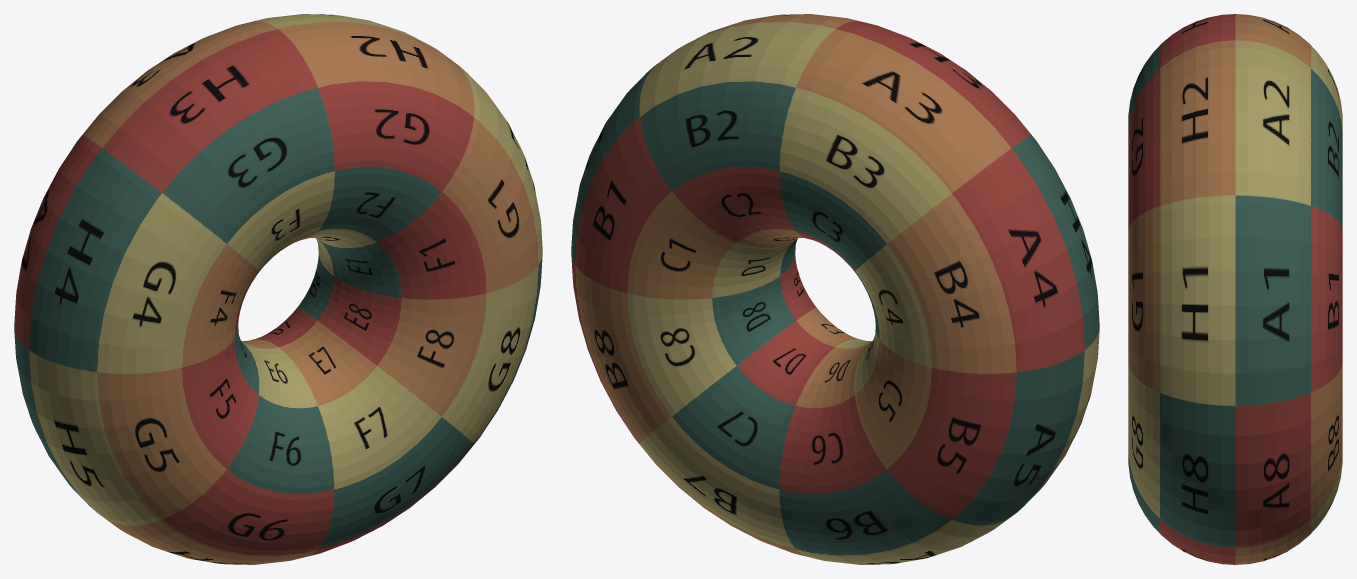
The model's file is texture_torus_R1_r18.glb.
3 renders of one model, left to right at view 1: azimuth 30°, elevation 25°; view 2: azimuth 150°, elevation 25°; view 3: azimuth 270°, elevation 25°, orthographic. The views are drawn at different scales.
Visible parts, largest first — view 1: world; view 2: world; view 3: world.
Part boxes in pixels (x1,y1,x2,y2): world: (14,14,542,564); world: (571,14,1099,564); world: (1128,14,1342,564).
Bounding box in the file's own units: 17.47 × 17.43 × 6.79.
1 material, 1 textured.
